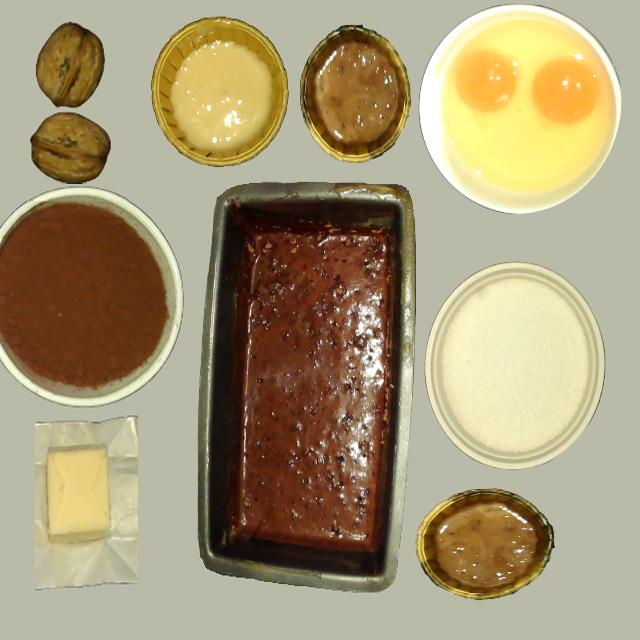Cocoa: (1, 202, 167, 393)
Egg: (531, 56, 600, 126), (456, 48, 519, 114)
Sugar: (438, 275, 588, 459)
Walnut: (29, 112, 109, 183), (36, 23, 103, 107)
